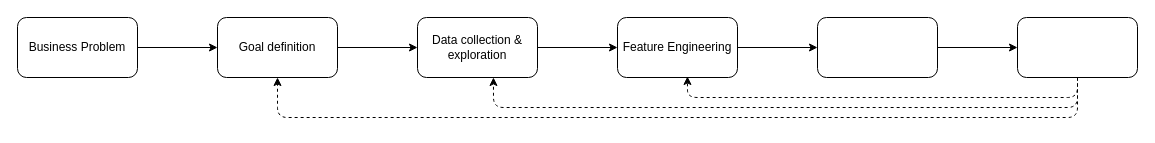
This 1155x143 diagram has some shape labels left out. The centre of each missing label's shape, as x and y in pixels:
"Model evaluation" goes at point (1077, 47).
"Model training" goes at point (877, 47).
